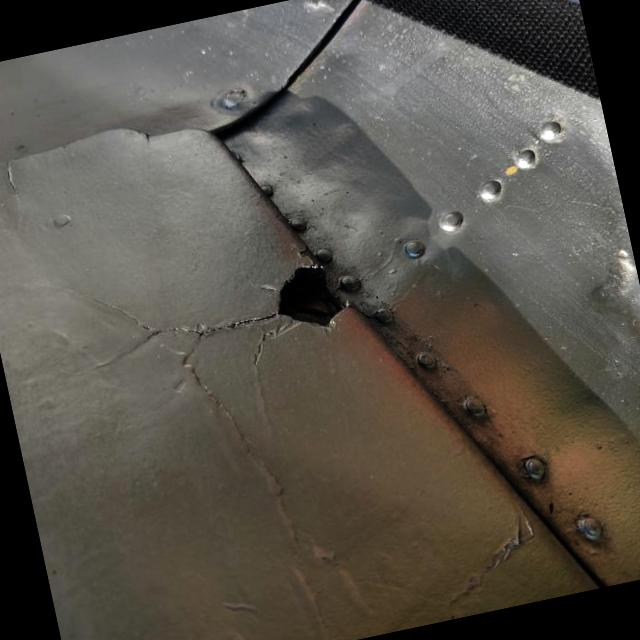crack: (188, 68, 426, 382)
